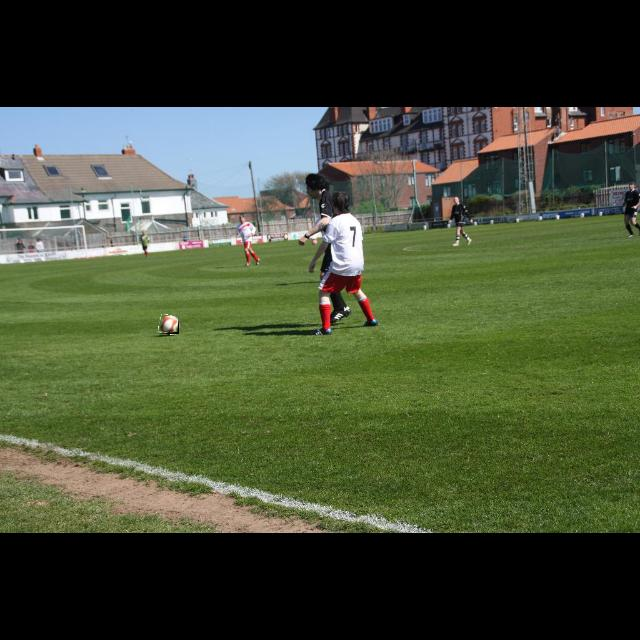Football: (159, 316, 179, 334)
